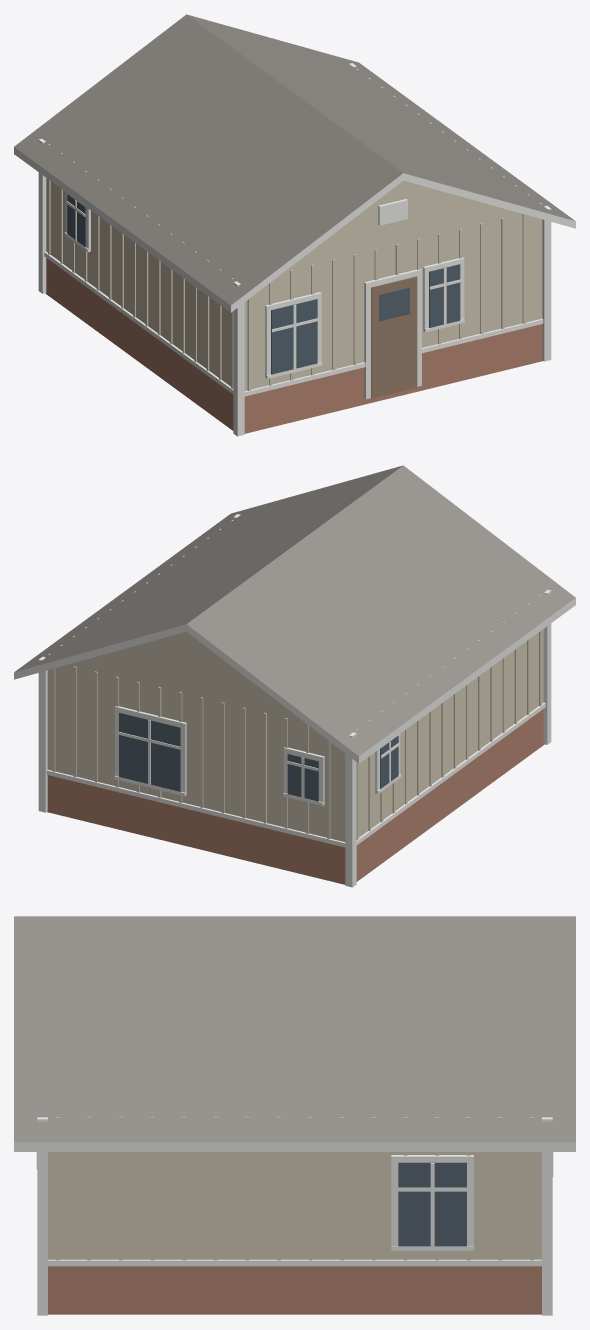
File: fig-craftsman.glb
The picture shows the model from 3 angles, top to bottom: view 1: azimuth 30°, elevation 25°; view 2: azimuth 150°, elevation 25°; view 3: azimuth 270°, elevation 25°; orthographic projection. The views are drawn at different scales.
Visible parts, largest first — view 1: The Fig (craftsman); view 2: The Fig (craftsman); view 3: The Fig (craftsman).
Boxes of the visible parts, <box> form: The Fig (craftsman): <box>14,14,575,436</box>; The Fig (craftsman): <box>14,465,575,887</box>; The Fig (craftsman): <box>14,916,575,1315</box>.
Size of the model in its own units: 6.86 by 4.42 by 7.47.
